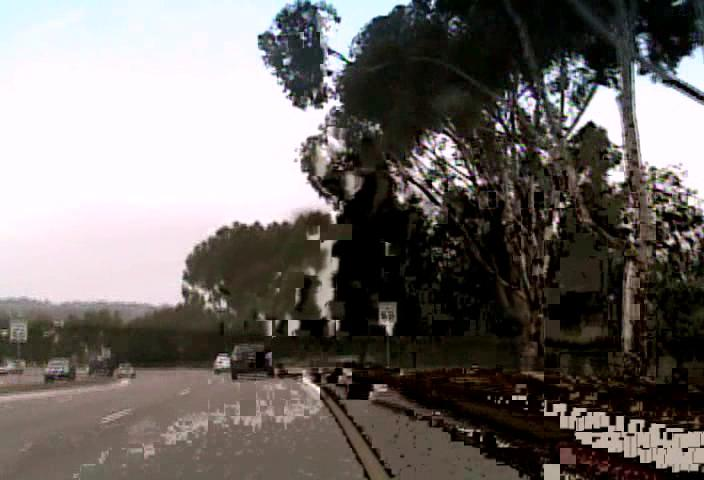speedLimitUrdbl: (9, 319, 28, 343)
